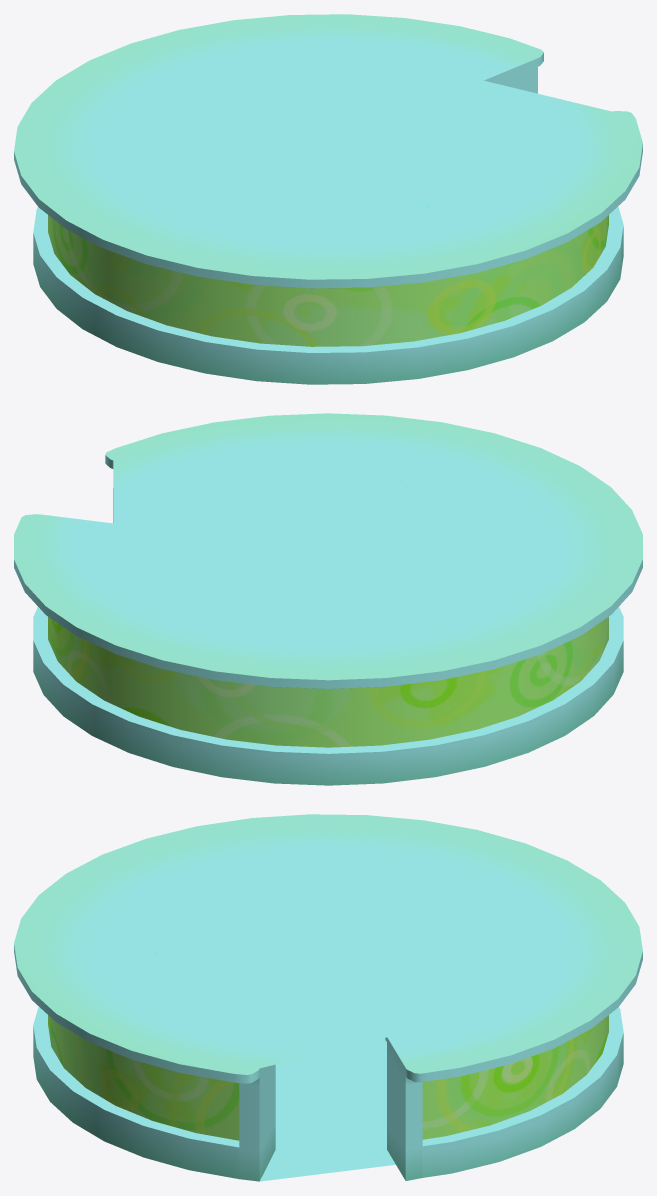
File: Table.fbx
3 renders of one model, top to bottom at view 1: azimuth 30°, elevation 25°; view 2: azimuth 150°, elevation 25°; view 3: azimuth 270°, elevation 25°, orthographic.
Parts seen in each view (by area): view 1: Cylinder; view 2: Cylinder; view 3: Cylinder.
Boxes of the visible parts, <box> form: Cylinder: <box>14,14,642,384</box>; Cylinder: <box>14,413,642,785</box>; Cylinder: <box>14,814,642,1181</box>.
Bounding box in the file's own units: 488 × 98.78 × 498.
Materials: 1 (1 with a texture image).
